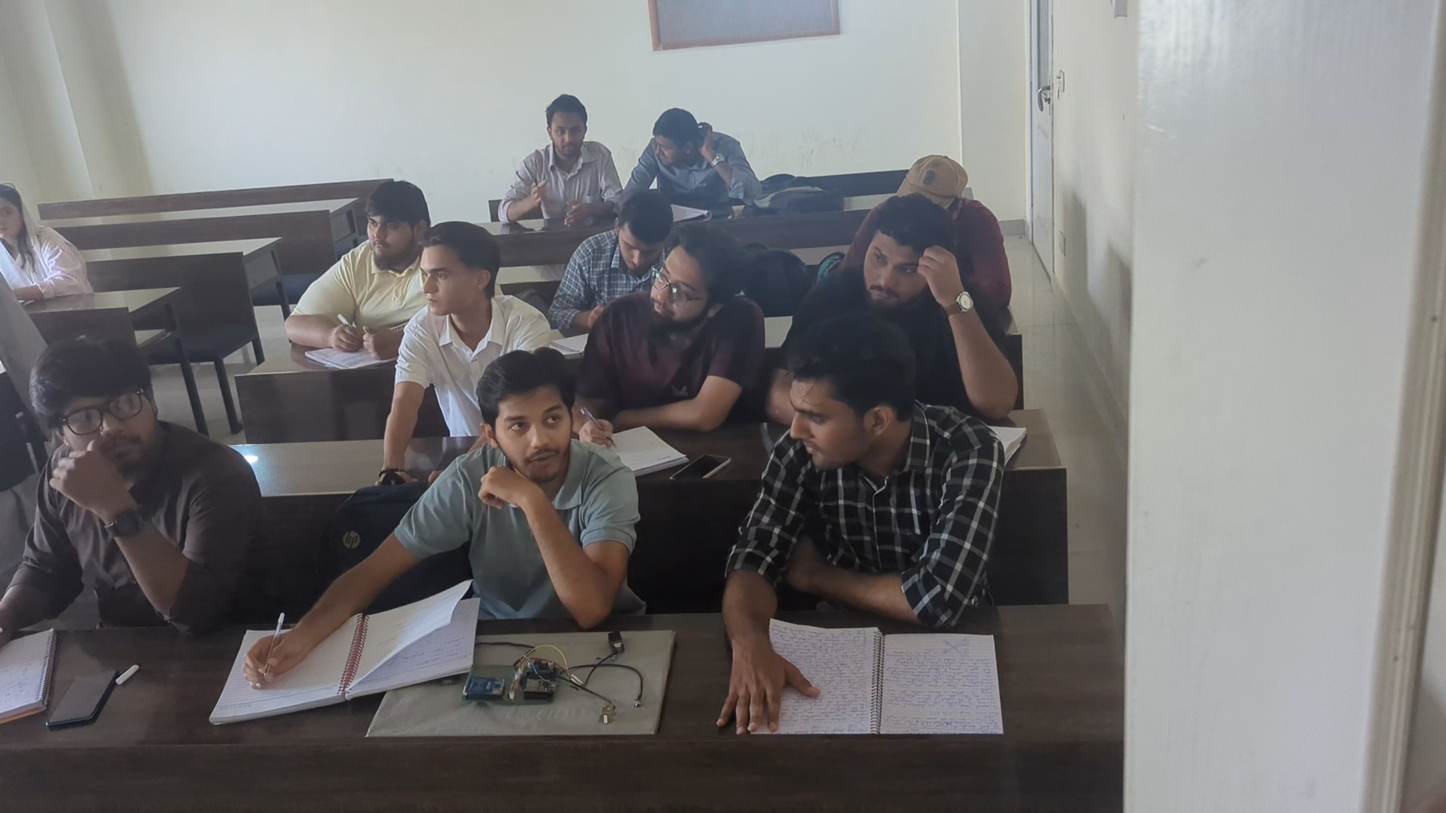look_forward: (13, 322, 255, 632), (416, 345, 642, 619), (586, 225, 763, 416), (286, 177, 438, 352), (370, 217, 536, 371), (492, 77, 628, 228), (834, 198, 980, 330), (1, 180, 90, 304)
read: (918, 140, 1013, 309), (635, 98, 763, 211)
turn_head: (710, 338, 1010, 634)
